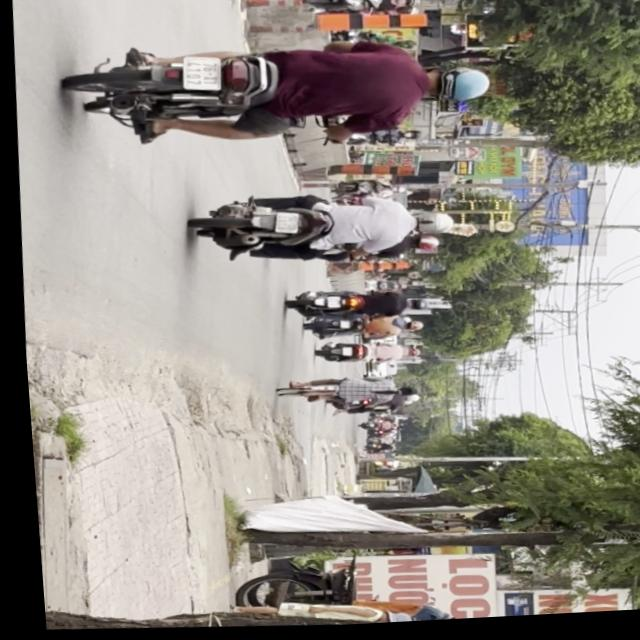helmet: (421, 67, 492, 109), (407, 213, 451, 238)
licenseplate: (59, 23, 494, 165), (186, 184, 457, 275)
nohelmet: (181, 59, 220, 92), (270, 212, 297, 237)
